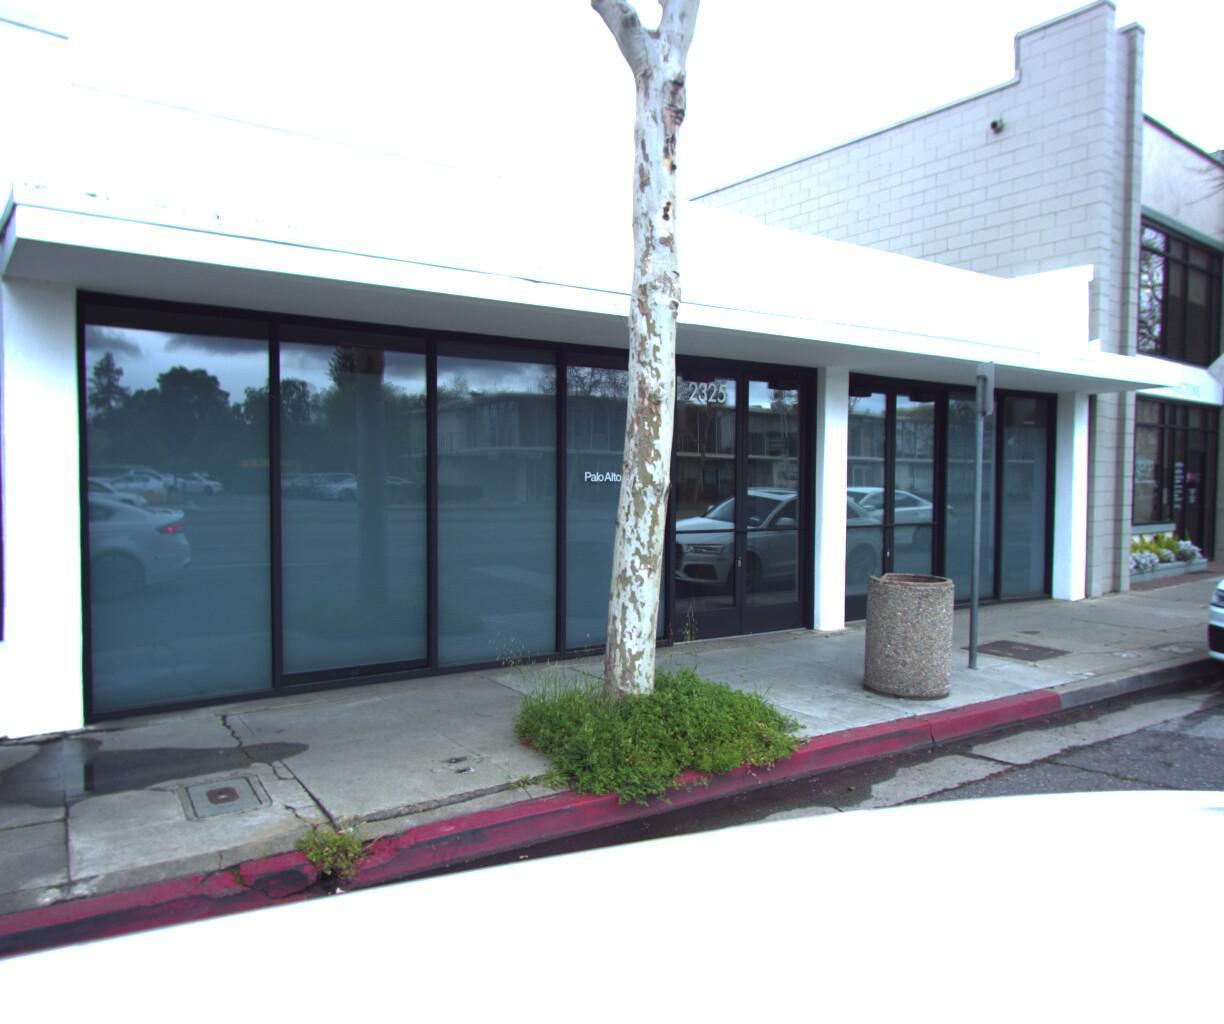car: (1185, 472, 1224, 737)
